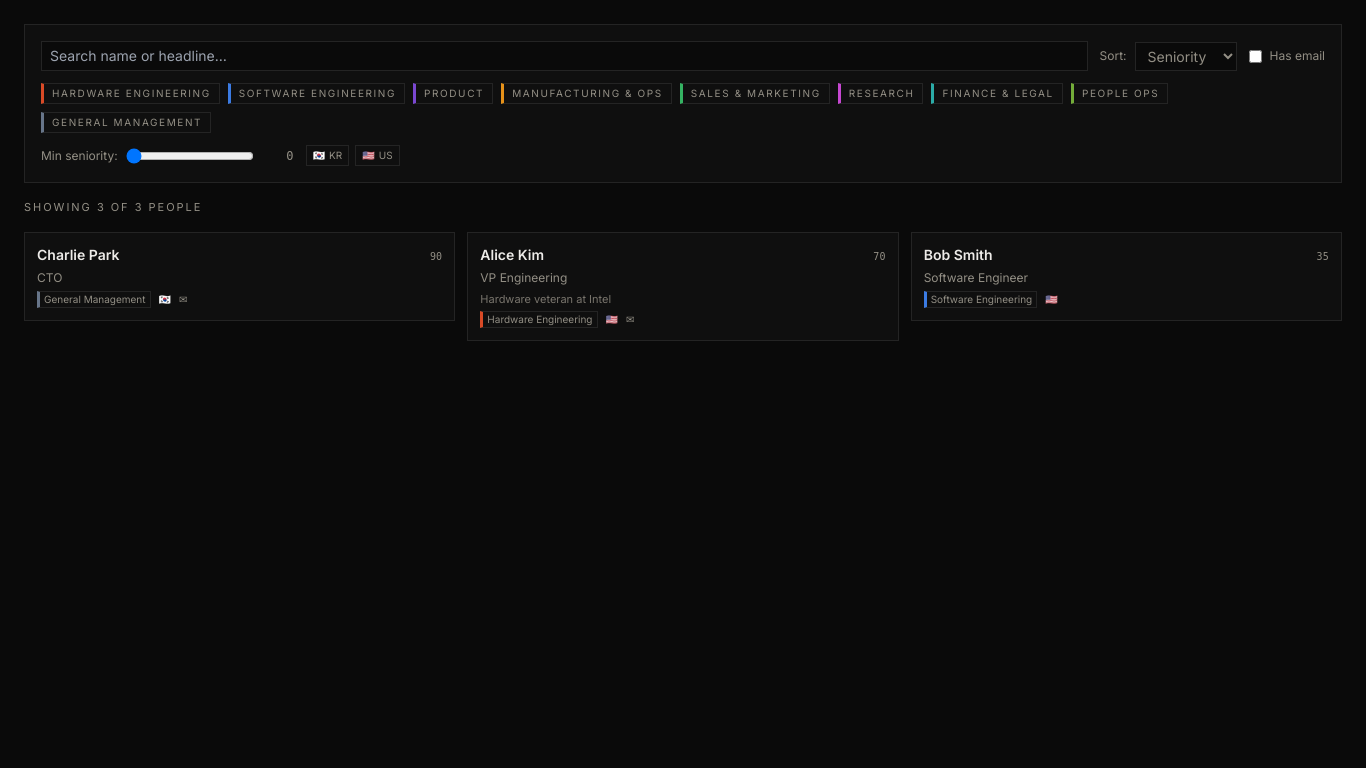
Test: People page rendering › count summary updates with filters
Expected: the text with test id "people-count" shows "3 of 3", top-left (24, 200), bottom-right (202, 214)
What coordinates should you click on to do the following:
click the button with test id "domain-pill-software_engineering"
I would click on:
 (316, 94)
Its box is top-left (228, 83), bottom-right (405, 104).
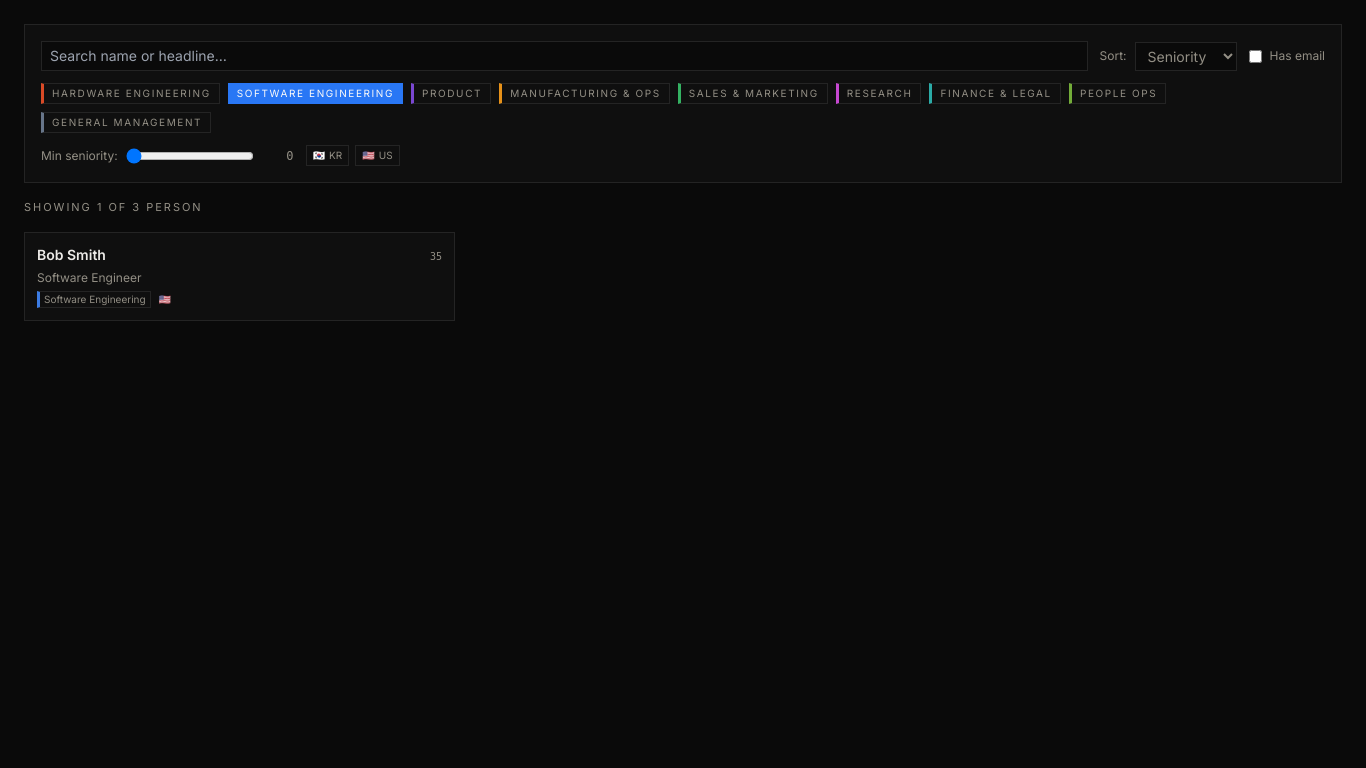
Now the text with test id "people-count" shows "1 of 3", box top-left (24, 200), bottom-right (203, 214)
